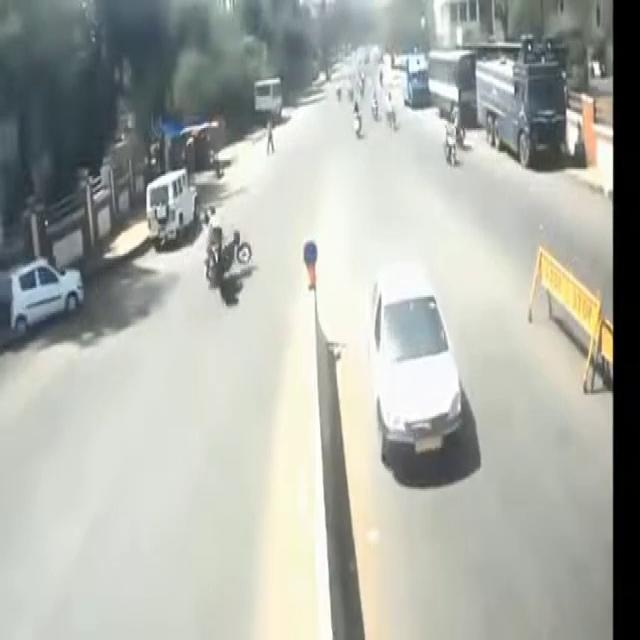accident: (191, 205, 267, 328)
